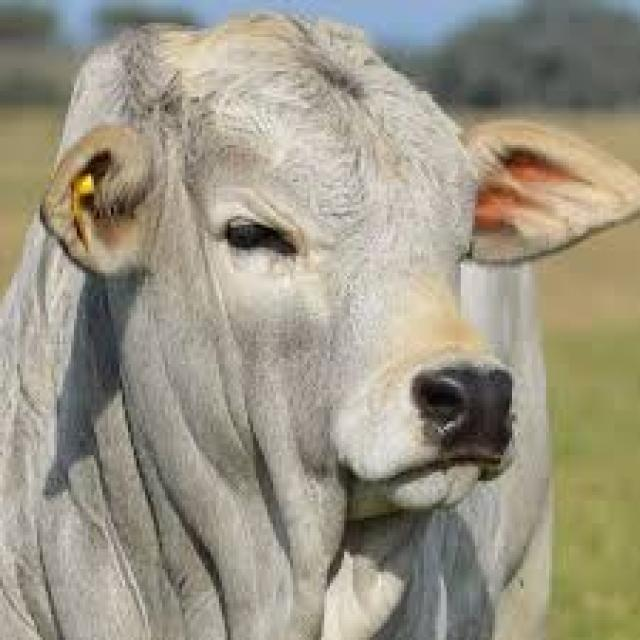cowFace: (54, 11, 632, 532)
